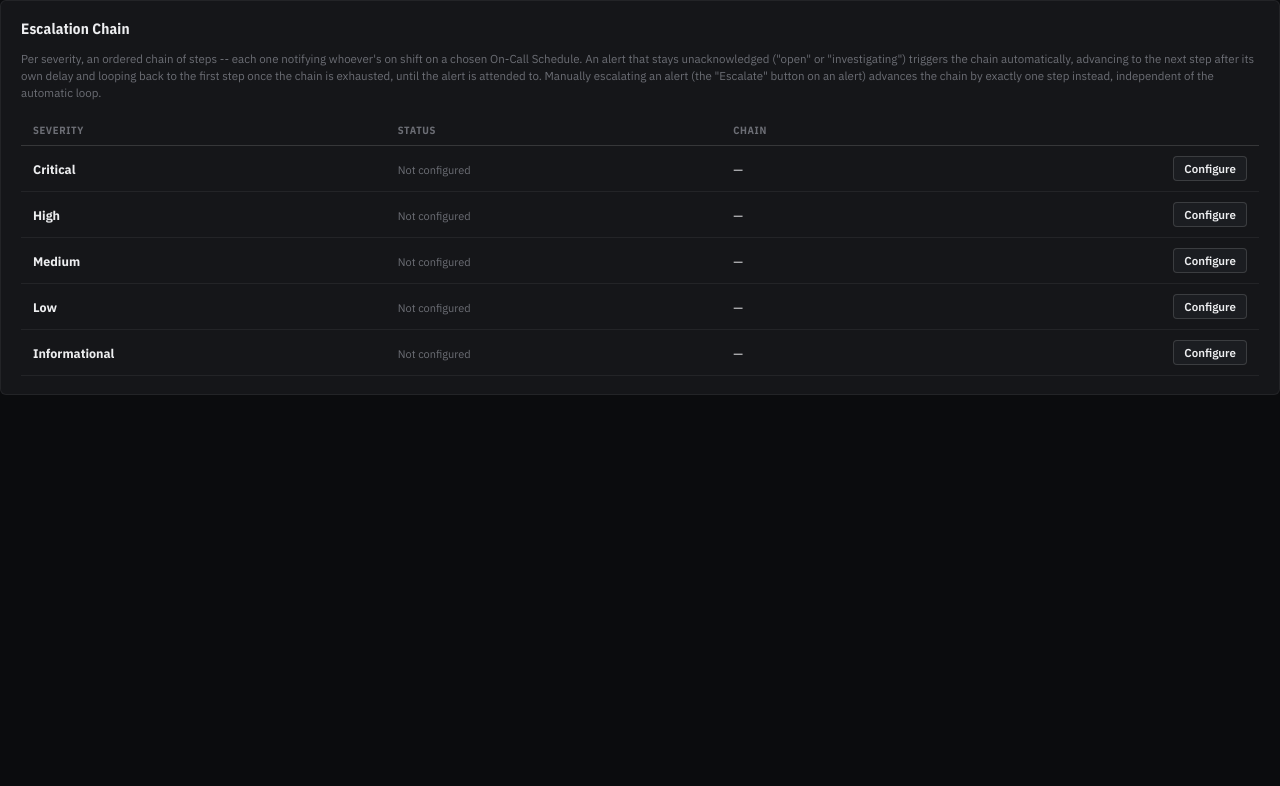
Scenario: EscalationPoliciesPanel › clicking Configure expands the edit form with one empty step, and Save is disabled until a destination is entered
The width and height of the screenshot is (1280, 786).
Click the button "Configure" in the row of "Critical" at [1210, 169], box left=1173, top=156, right=1247, bottom=181
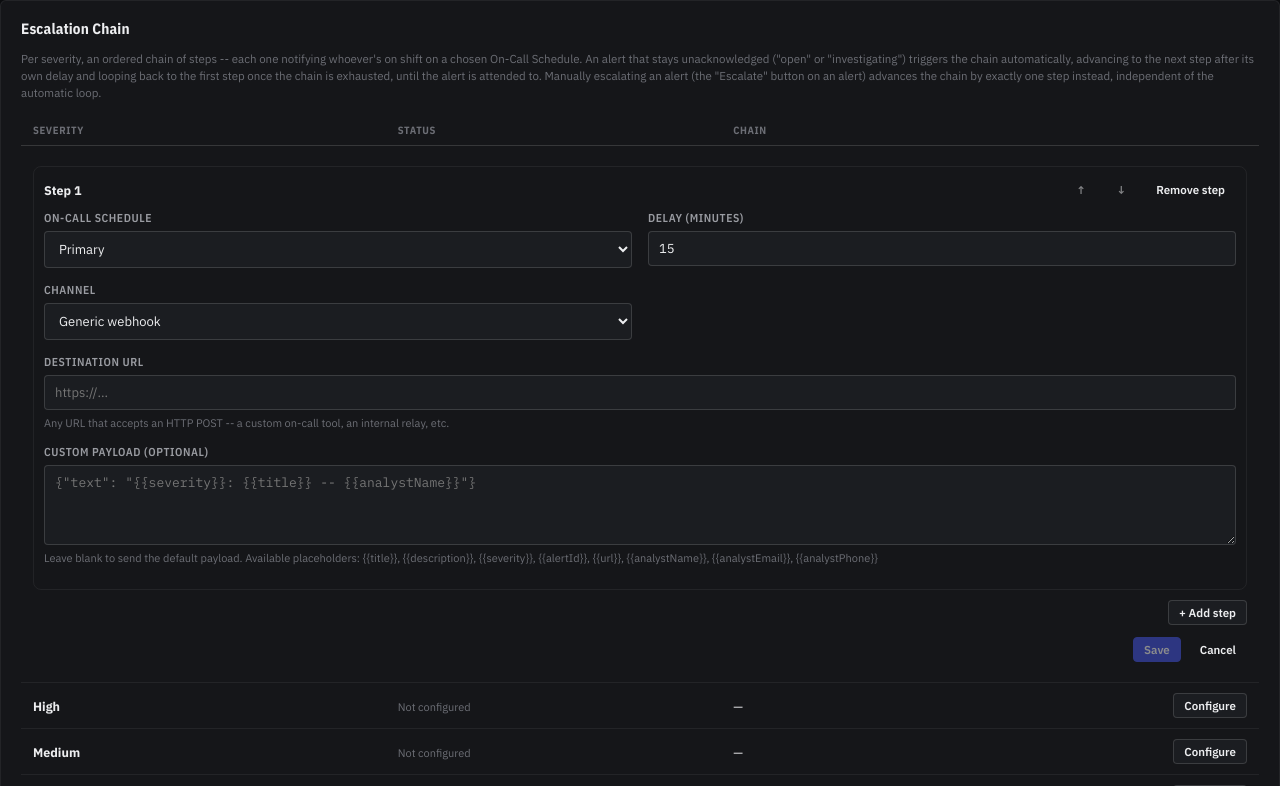
Check: the dropdown labelled "On-Call Schedule" is shown, box left=44, top=231, right=632, bottom=268
Check: the number field labelled "Delay (minutes)" is shown, box left=648, top=231, right=1236, bottom=266
Check: the button "Save" is disabled, box left=1133, top=637, right=1181, bottom=662
